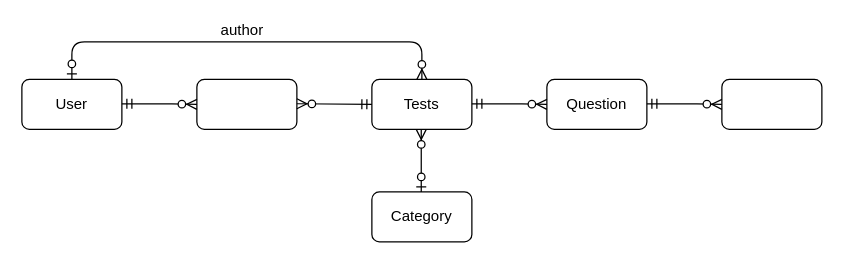
The diagram is 844 pixels wide and 264 high, and some of its shapes have lost their labels. The centre of each missing label's shape, as x and y in pixels:
Answer: point 771,103
Result: point 246,103
